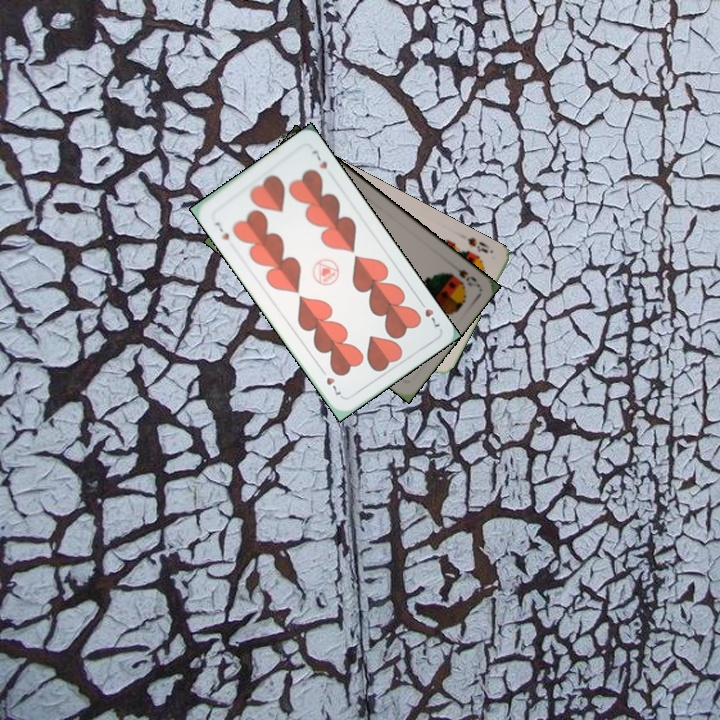H7: (414, 296, 443, 330), (210, 218, 232, 242)
S8: (464, 233, 493, 256)
SO: (454, 265, 479, 289)
